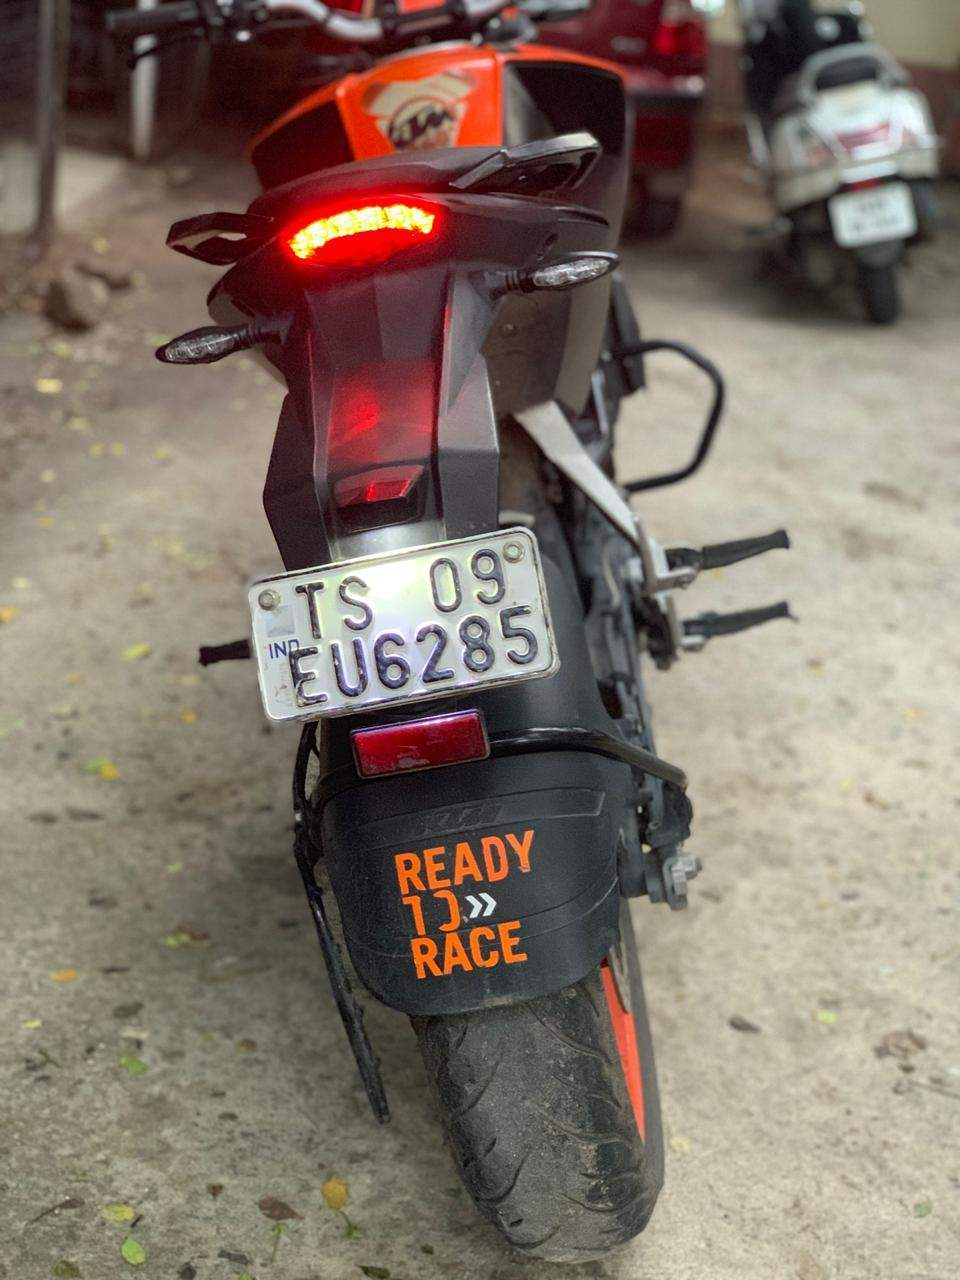doublelinenumberplate: (231, 523, 562, 723)
